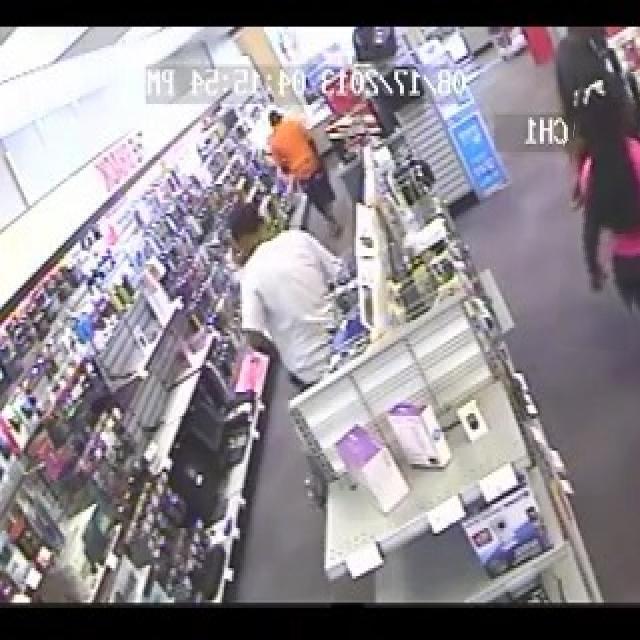normal: (562, 69, 640, 350), (264, 92, 345, 242)
